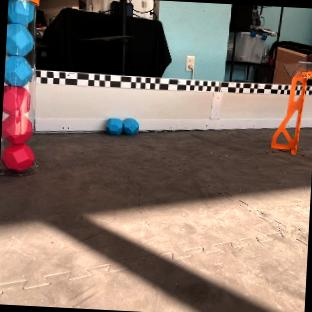Goal: (270, 61, 312, 153)
Loader: (0, 0, 37, 170)
V5_BLUE: (5, 23, 33, 56), (4, 53, 31, 85), (105, 118, 138, 134)
V5_RED: (1, 85, 31, 141), (3, 143, 32, 170)
